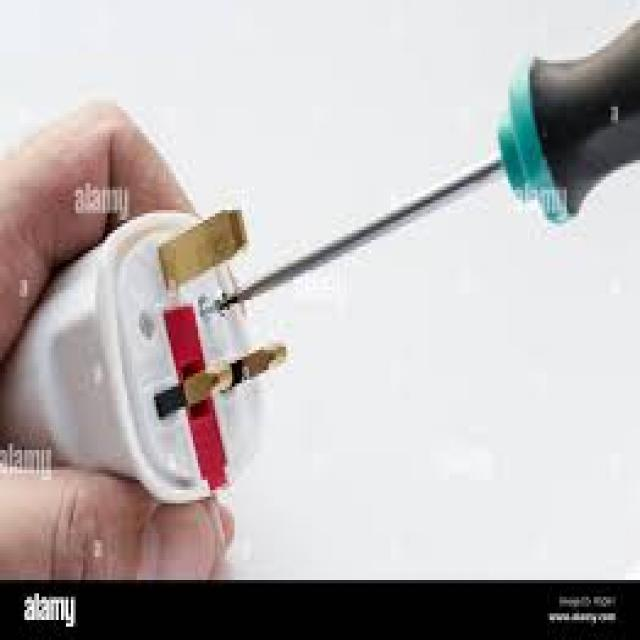screwdriver: (222, 18, 640, 324)
